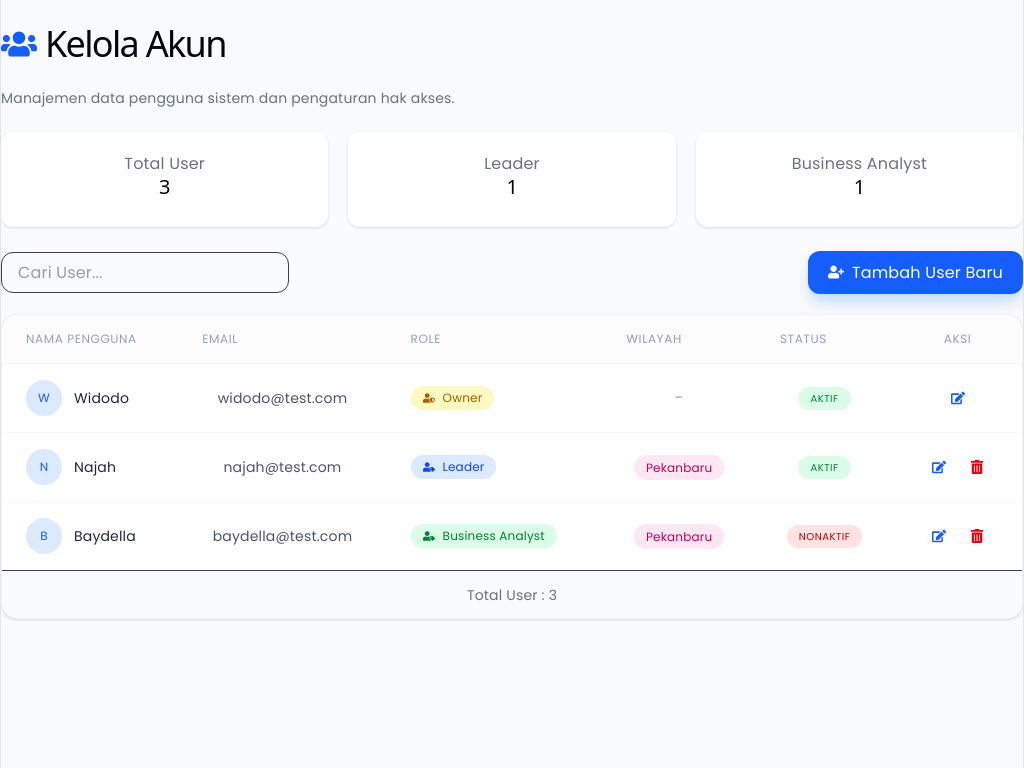
Scenario: White Box Testing - Kelola Akun › WB-KA08 - Membuka form edit pengguna
Expected: the text "Najah" is shown, [74,457,116,477]
Click the button titled "Edit User" in the row of "widodo@test.com" at [958, 398], box [943,383,973,413]
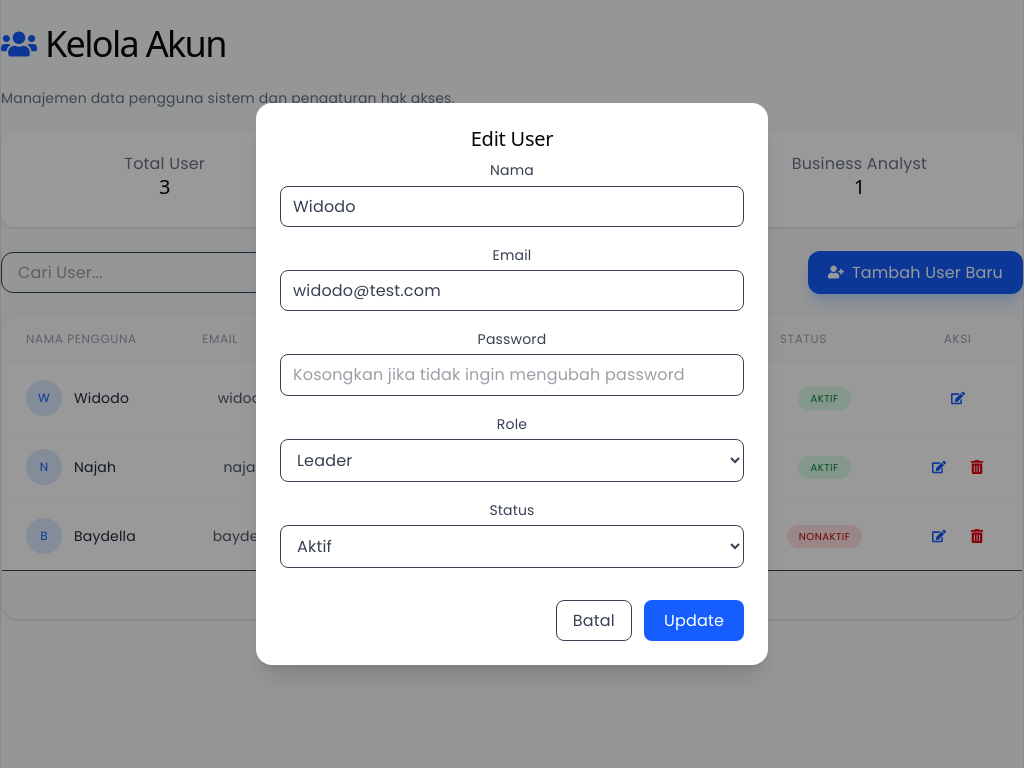
Result: the heading "Edit User" is shown at [471,125,553,152]
Result: the 1st field named "nama" is shown at [280,186,744,227]
Result: the 2nd field named "email" is shown at [280,270,744,311]
